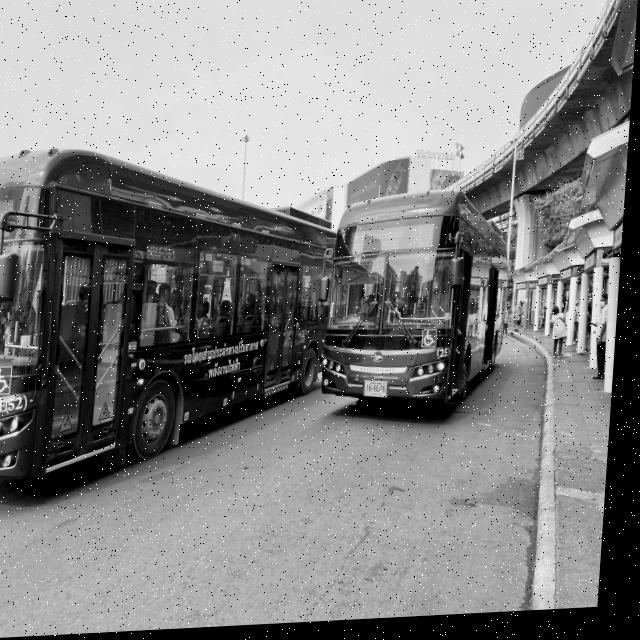Bus Line Number: (418, 225, 441, 254)
Bus Side Number: (0, 395, 34, 414), (428, 353, 455, 364)
Destination Sign: (353, 231, 410, 259)
TSB-Bus: (0, 150, 340, 486), (325, 196, 515, 415)
